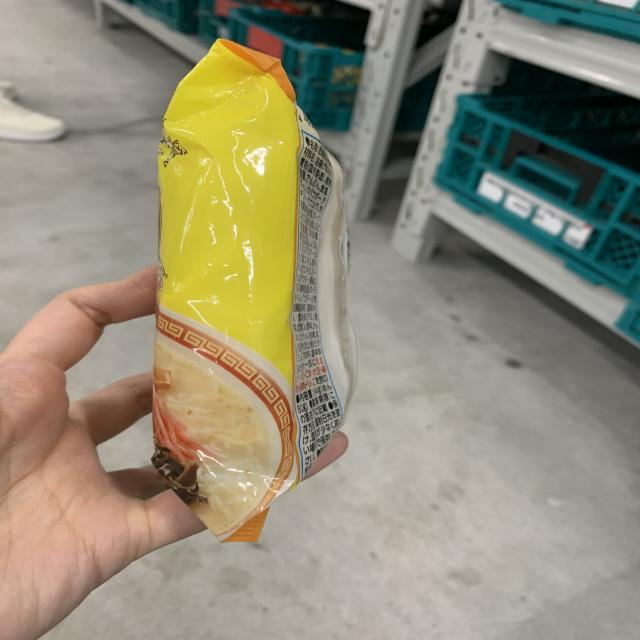object_name: (158, 51, 334, 474)
